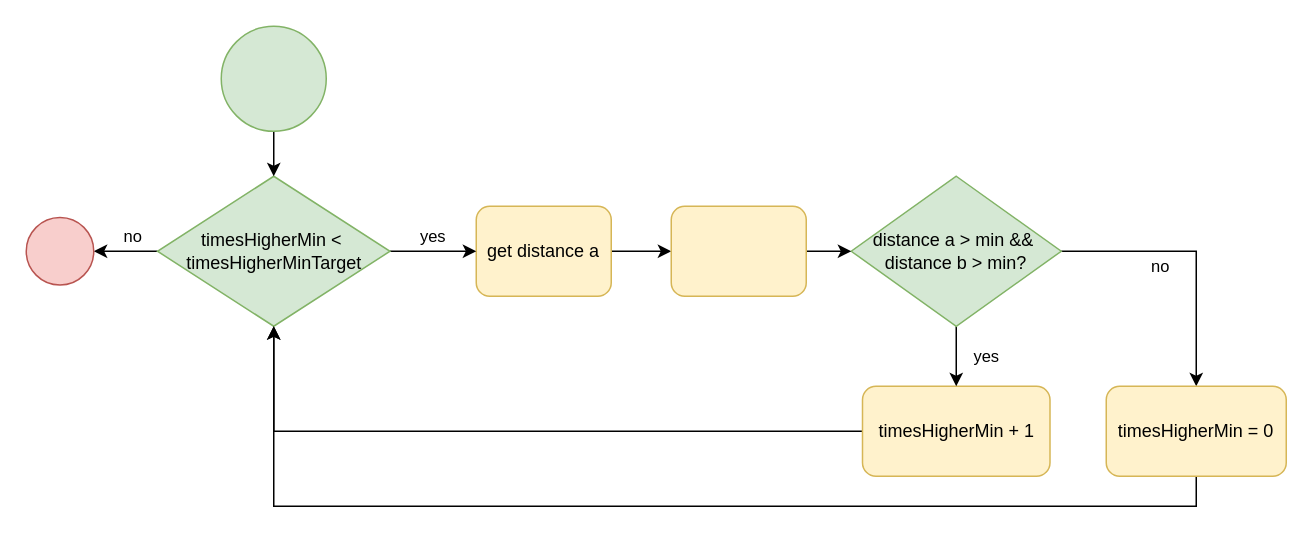
Image size: 1313x545. Some labels were removed from this diagram. The box of each missing label's shape, as (x1, y1, x2, y2) in pixels:
get distance b: (670, 205, 806, 296)
trigger = 1: (220, 25, 326, 131)
